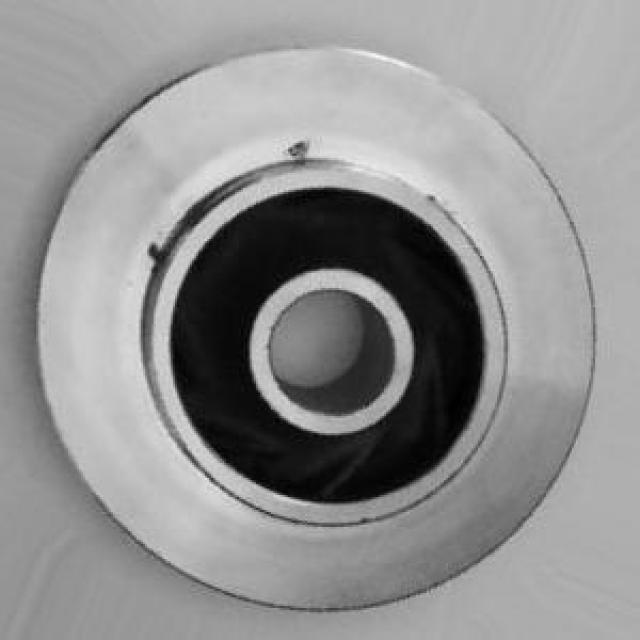Defect: (287, 132, 314, 168)
